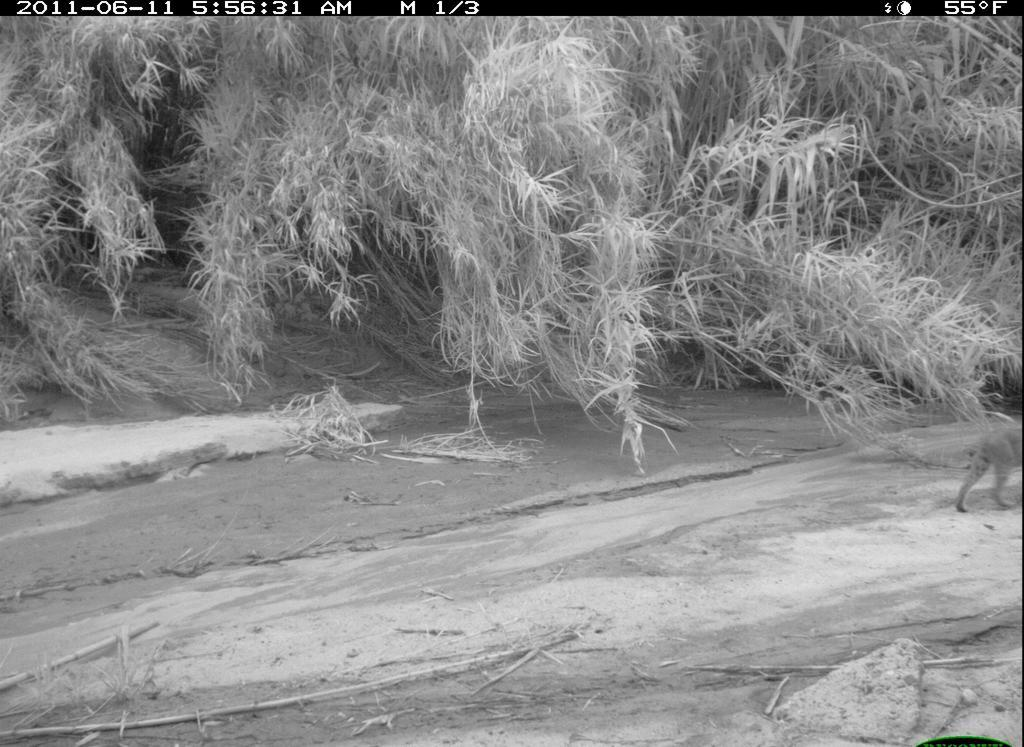bobcat: (950, 420, 1023, 516)
